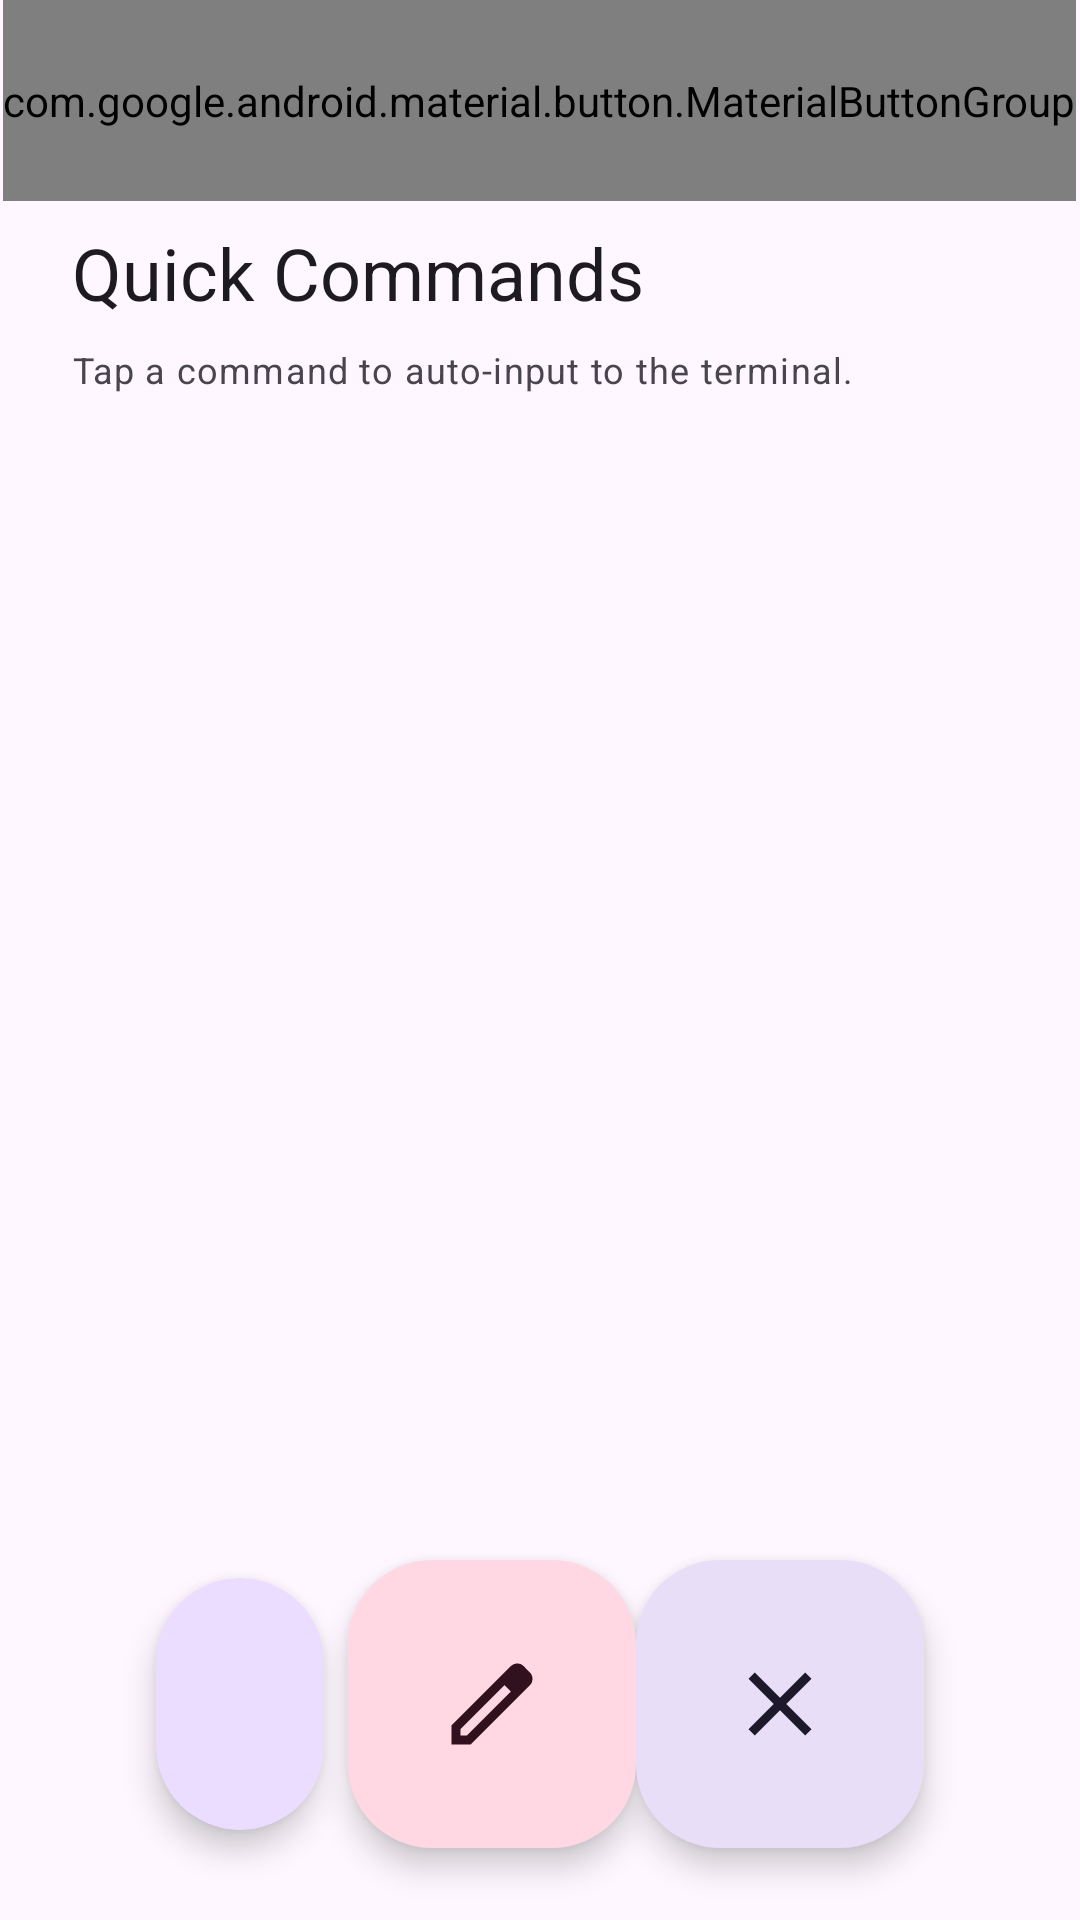

Where to tap for icons on this 1080x1920 app screen, as (x=x, y=y):
Close: (x=780, y=1704)
Edit: (x=492, y=1704)
